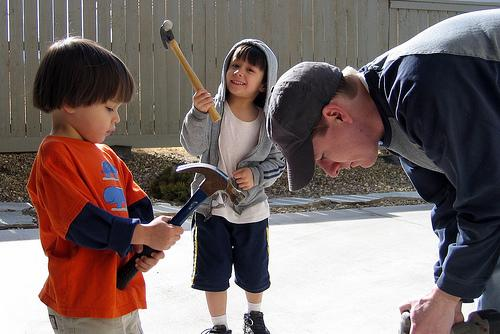hammer: (115, 160, 246, 290), (158, 18, 222, 123)
